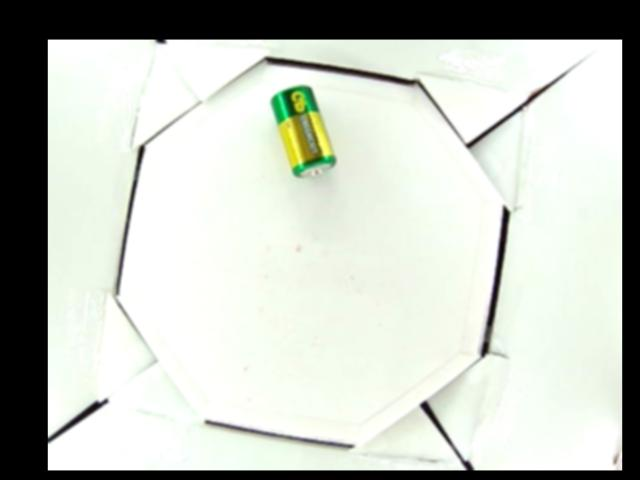Battery: (269, 85, 338, 178)
